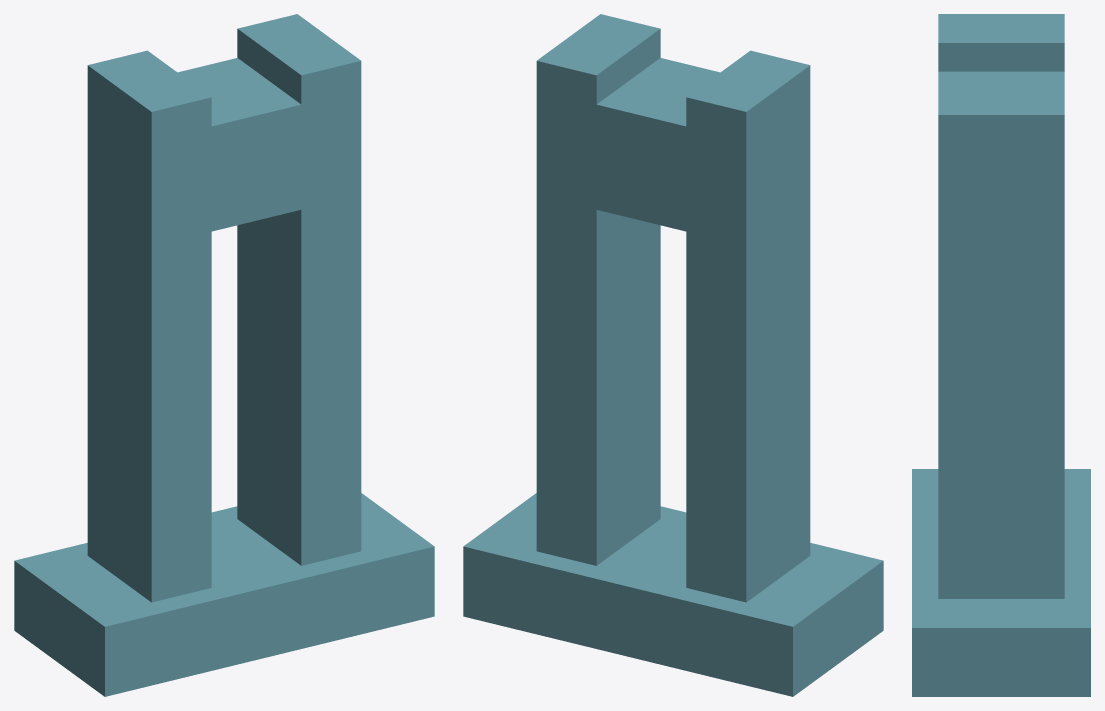
The model's file is stock-exchange.glb.
3 renders of one model, left to right at view 1: azimuth 30°, elevation 25°; view 2: azimuth 150°, elevation 25°; view 3: azimuth 270°, elevation 25°, orthographic.
Visible parts, largest first — view 1: stock-exchange; view 2: stock-exchange; view 3: stock-exchange.
Boxes of the visible parts, x1=… form: stock-exchange: x1=14, y1=14, x2=434, y2=696; stock-exchange: x1=463, y1=14, x2=883, y2=696; stock-exchange: x1=912, y1=14, x2=1090, y2=696.
Bounding box in the file's own units: 111 × 180 × 52.71.
